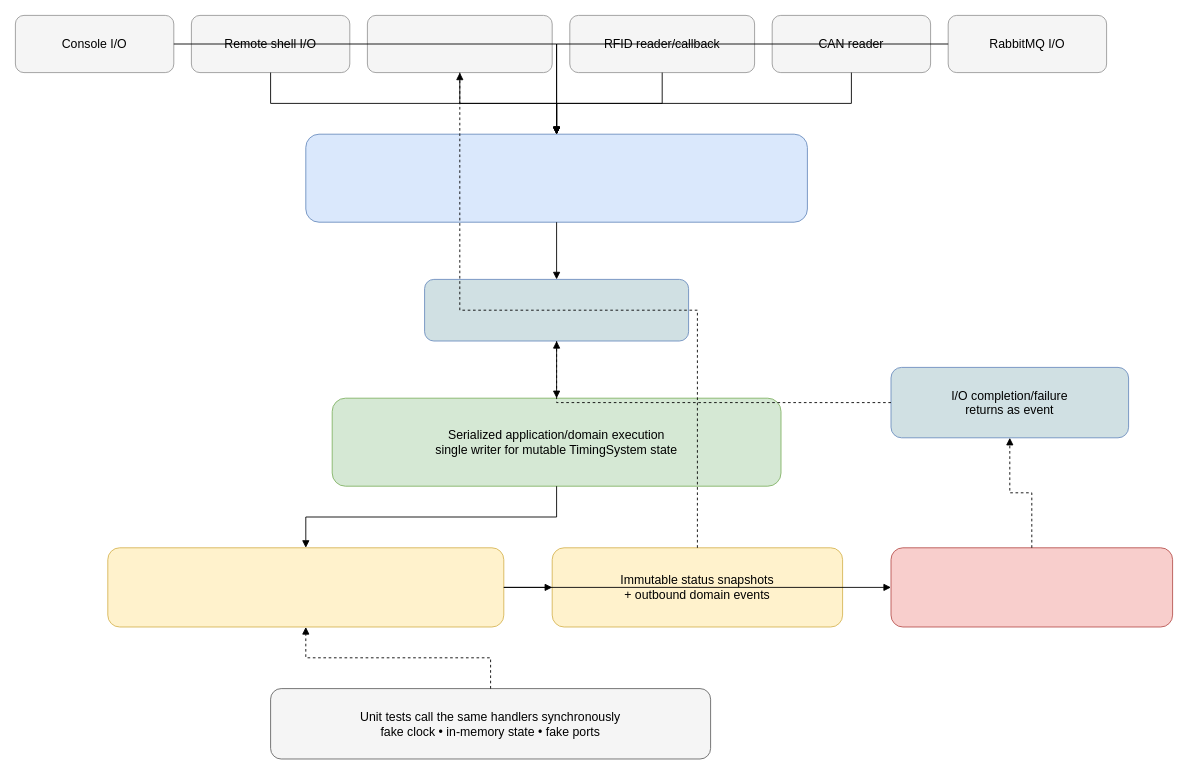
Image size: 1188x774. Some labels were removed from this diagram. The shapes that lost their labels are listed below. From the top down, each one's centre as x and y in pixels, then its label:
At point 459,44: "HTTP / WebSocket I/O".
At point 556,177: "Adapter boundary immutable commands/events capture source timestamp immediately".
At point 556,310: "TimingSystem ingress queue".
At point 305,587: "Application/domain handlers no threads • no sleeps • injected Clock/ports".
At point 1031,587: "Blocking/slow I/O stays in adapters backup • network • hardware".
